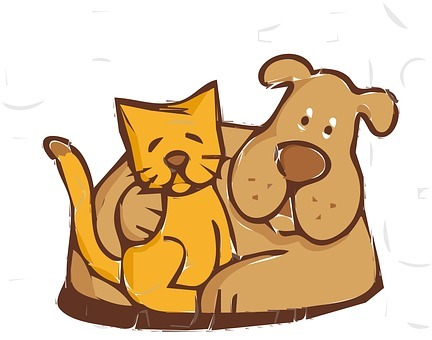cat: (29, 73, 237, 312)
dog: (58, 48, 403, 314)
